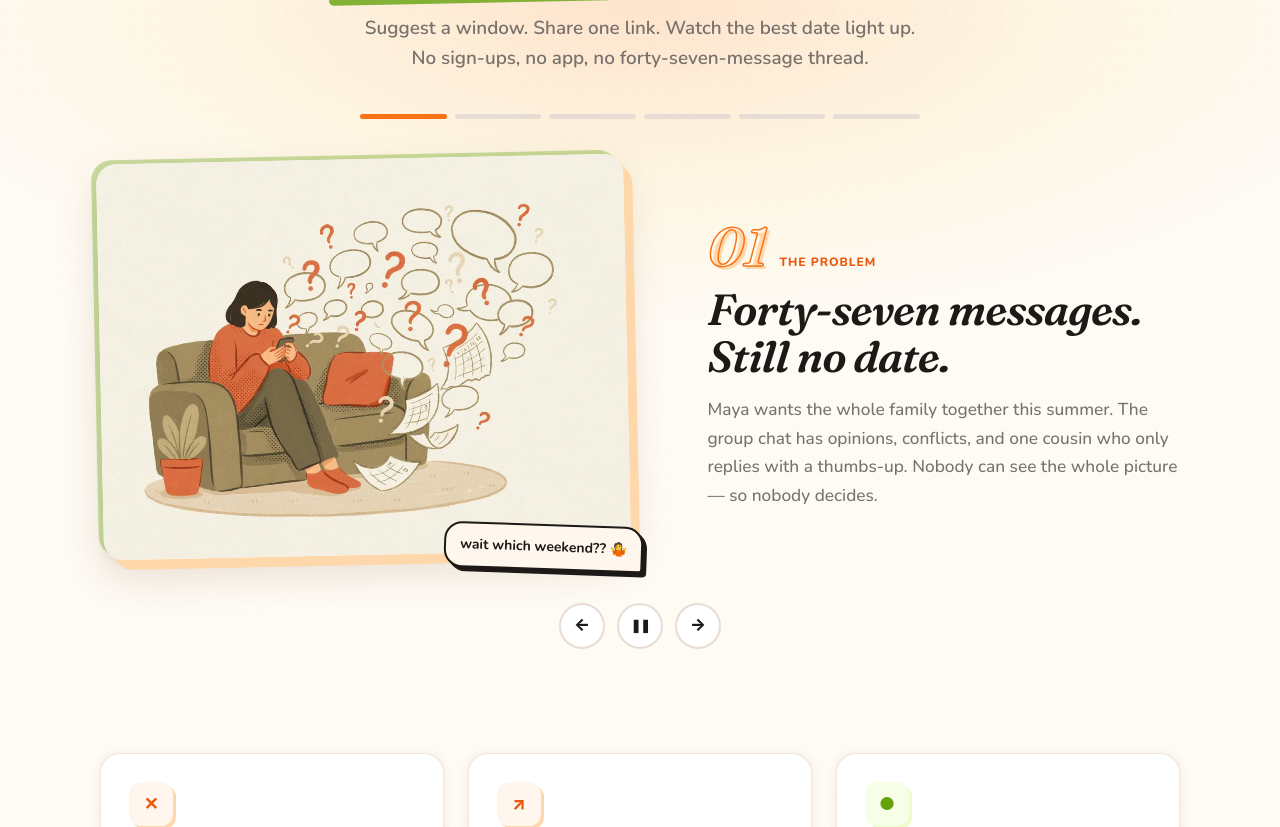
Test: Landing › supports swipe, ignoring small drags
The width and height of the screenshot is (1280, 827).
(page scrolled)
Step 1. Press the mouse on the element with class "lp-story" → (640, 377), box [80,105,1200,649]
Expected: the heading with class "lp-title" reads "Forty-seven messages. Still no date.", [707,282,1142,383]
Step 2. Press the mouse on the element with class "lp-story" → (640, 377), box [80,105,1200,649]
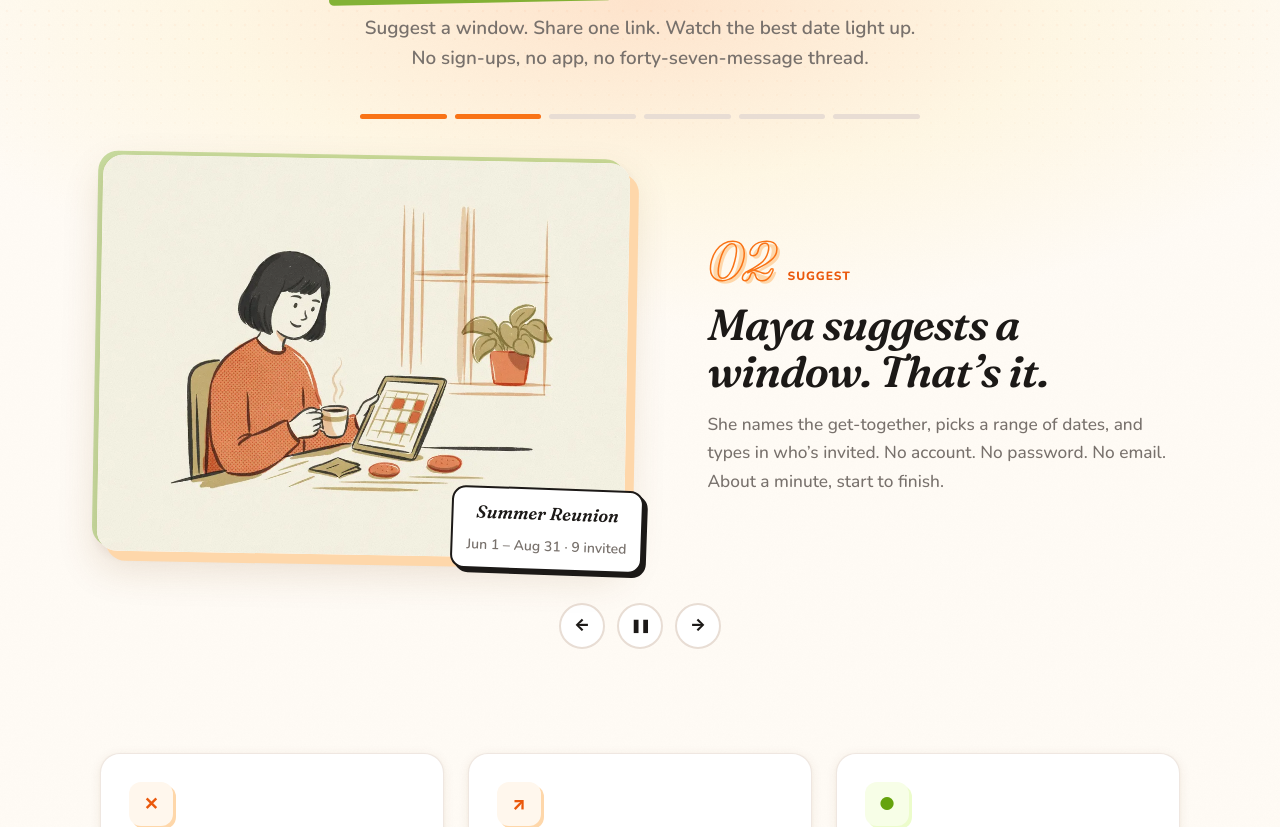
Now the heading with class "lp-title" reads "Maya suggests a window. That’s it.", box [707,296,1048,398]
